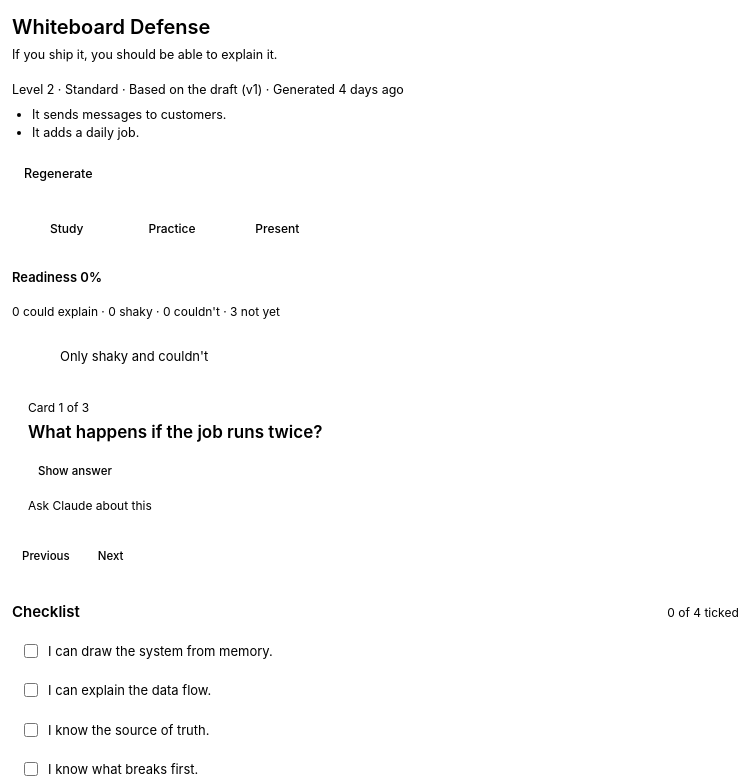
Test case: Practice › Show answer reveals the answer, how sure it is, and the ratings
Click the button with test id "show-answer": click(75, 471) x1=28 y1=459 x2=122 y2=484
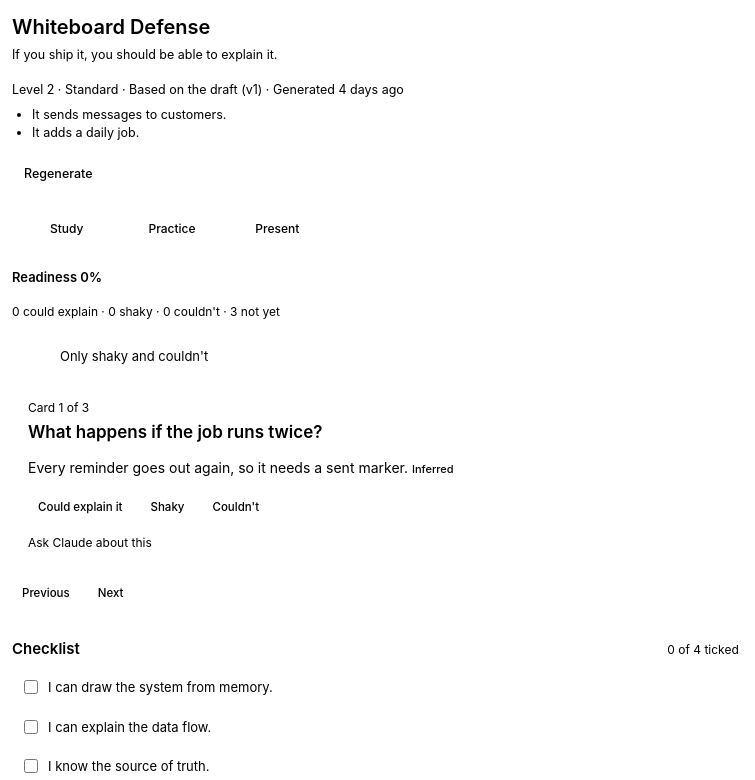
Expected: the element with test id "flashcard-answer" reads "Every reminder goes out again, so it needs a sent marker. Inferred", x1=28 y1=459 x2=454 y2=476
Expected: the button with test id "show-answer" is gone
